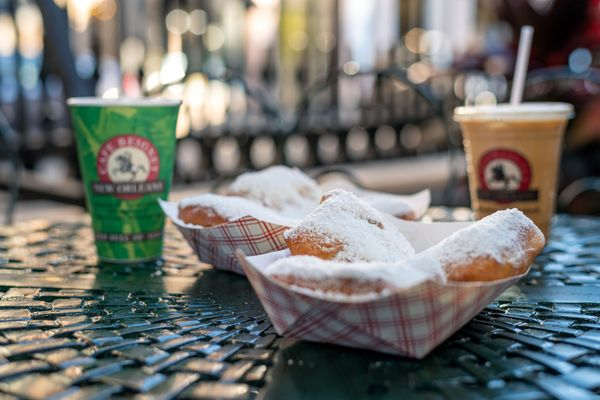pizza: (66, 94, 182, 267), (453, 101, 574, 238)
